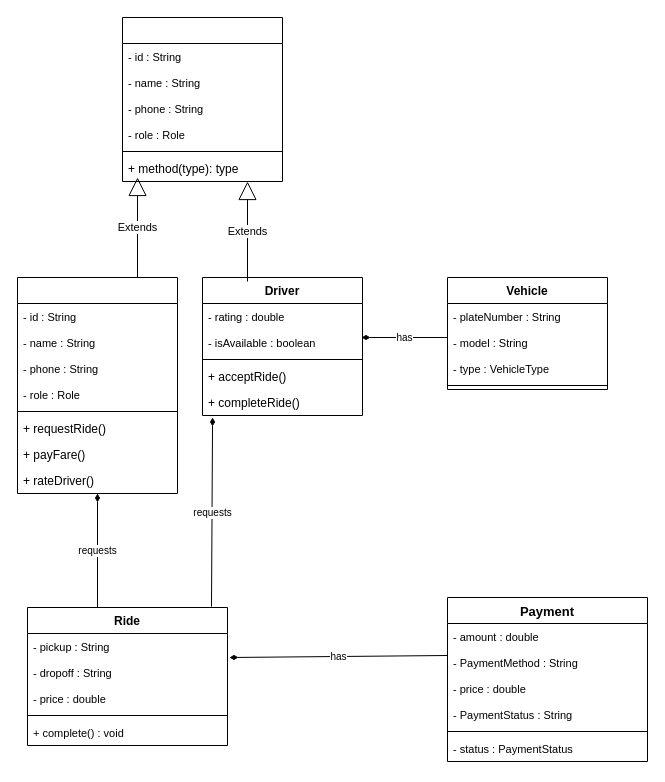
Image size: 665x782. Some labels were removed from this diagram. Here are the shapes that lost their labels. From the top down, the box of each, then its label:
(122, 16, 282, 182): User
(16, 276, 178, 494): Passenger
